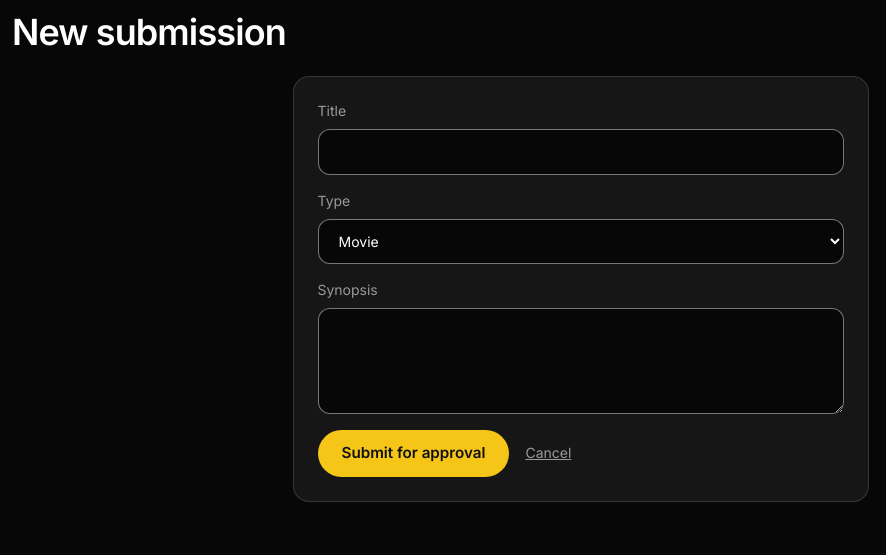
it: SubmissionForm (new) › shows the server error and stays on the form when saving fails
In the field labelled "Title": x=580, y=152 [318,129,844,175], type "Doomed"
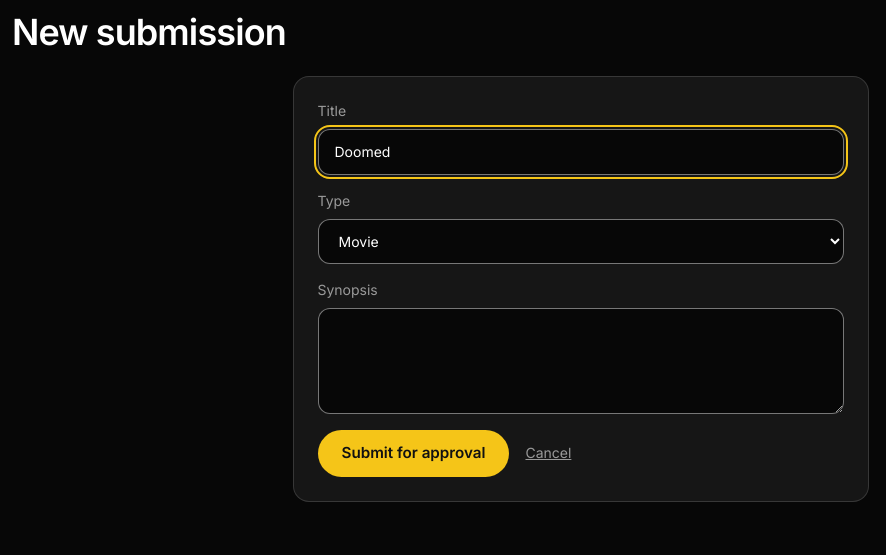
Click the button "Submit for approval": x=414, y=453 [318,430,510,477]
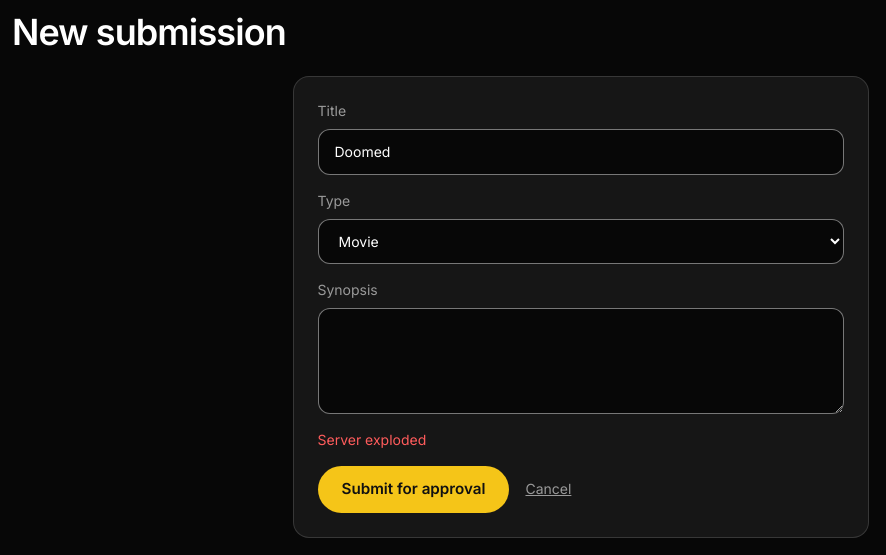
Expected: the message reads "Server exploded", [318,431,426,448]
